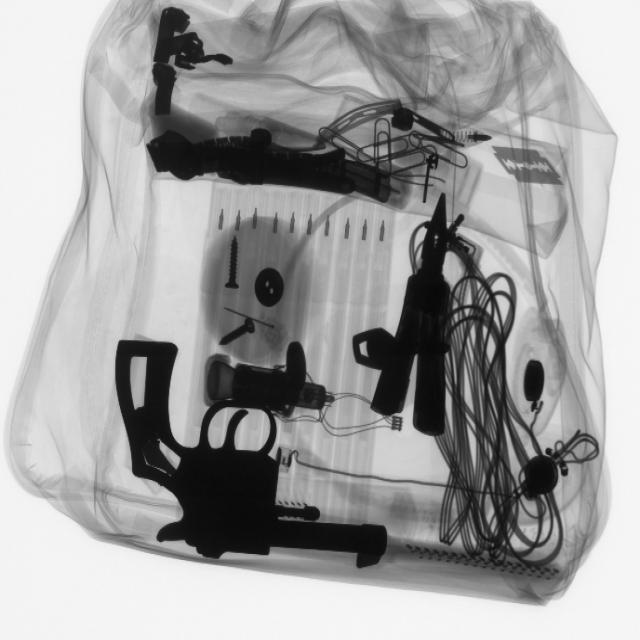BLADE: (492, 136, 570, 193)
GUN: (112, 339, 391, 568)
SCREW: (207, 227, 262, 298), (212, 303, 263, 355)
